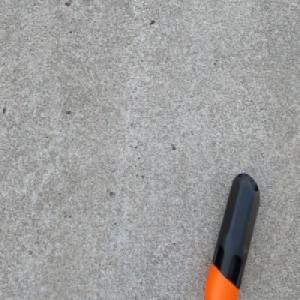PlasticPart: (204, 171, 261, 300)
